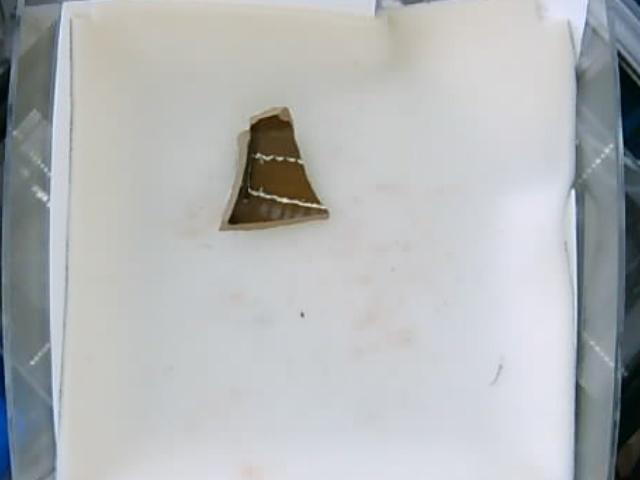China: (219, 107, 328, 235)
